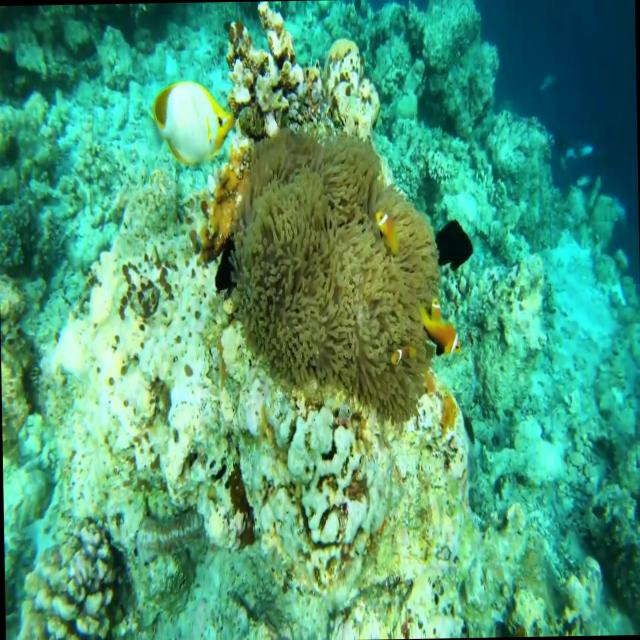fish: (138, 63, 240, 173), (435, 193, 479, 273), (367, 199, 402, 275), (419, 290, 458, 353)
